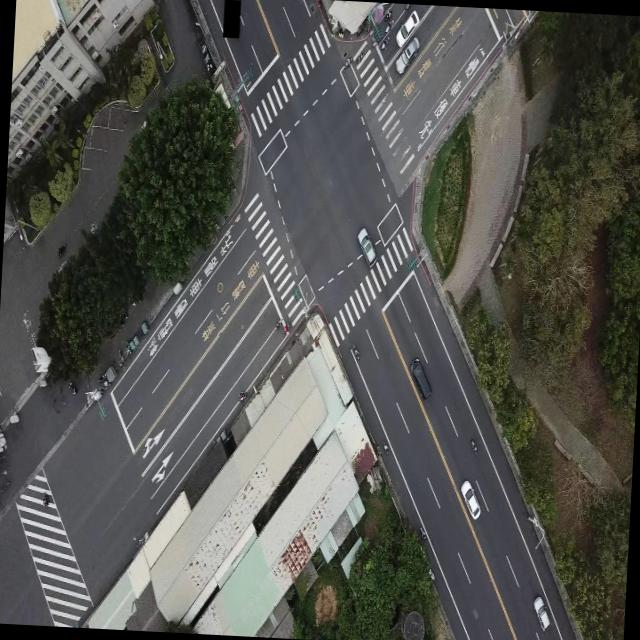bike: (40, 492, 50, 512), (58, 242, 68, 258), (471, 437, 480, 454), (351, 346, 361, 360), (386, 19, 395, 34), (357, 50, 366, 64), (420, 526, 428, 541), (70, 380, 78, 394), (382, 36, 390, 50), (382, 441, 390, 455), (344, 56, 352, 69), (239, 390, 249, 400), (385, 10, 393, 22), (276, 321, 282, 334), (404, 4, 410, 10)
car: (396, 35, 422, 77), (410, 357, 434, 399), (459, 480, 482, 520), (397, 9, 420, 48), (357, 224, 378, 263), (534, 596, 554, 633)
